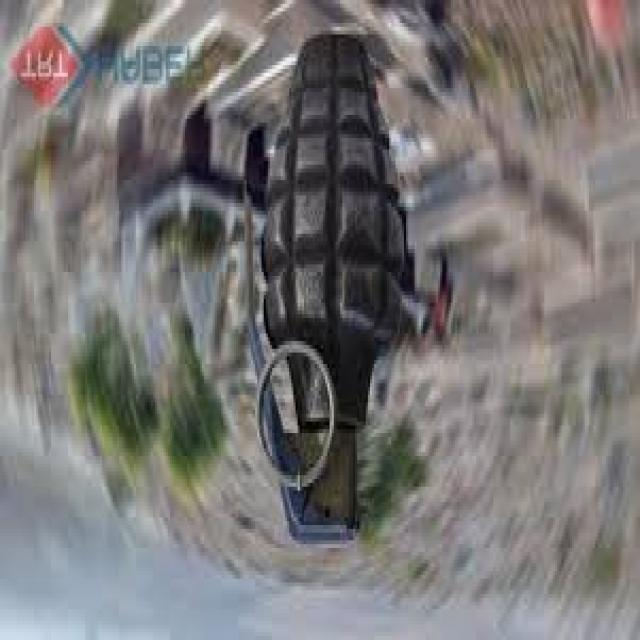grenade: (234, 21, 419, 555)
